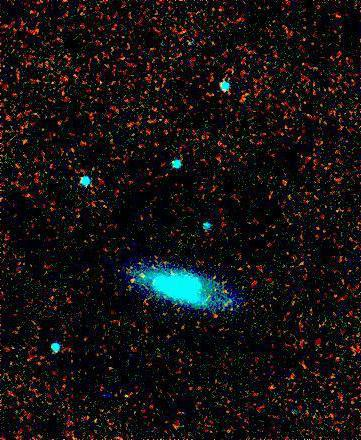star: (119, 265, 149, 295)
